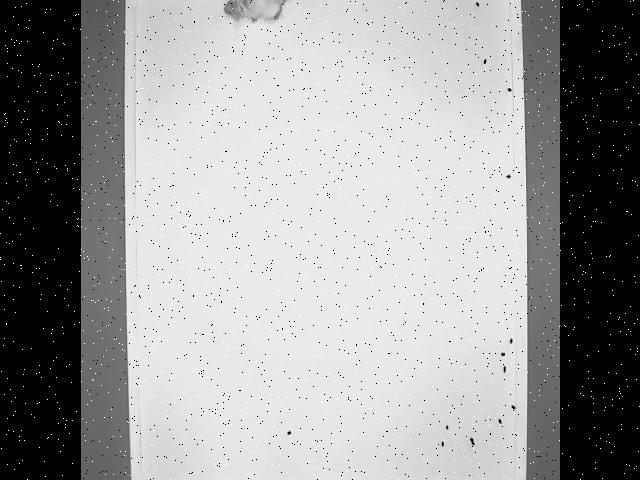Tikus: (220, 0, 327, 32)
